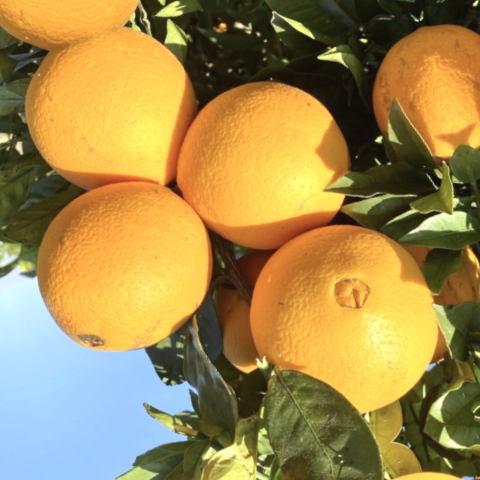orange: (206, 197, 470, 454), (0, 12, 248, 239), (151, 58, 389, 286), (0, 163, 235, 377)
